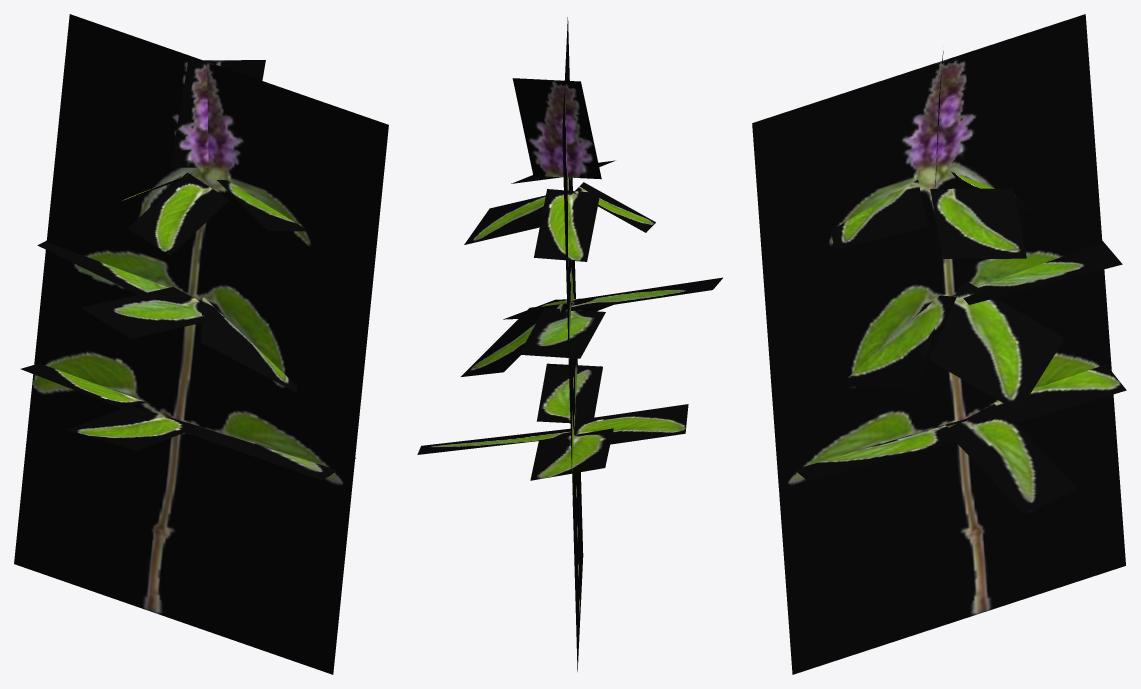
The model's file is 12_Prunella_vulgaris_medium_001.fbx.
3 views of the same model, side by side, from view 1: azimuth 30°, elevation 25°; view 2: azimuth 150°, elevation 25°; view 3: azimuth 270°, elevation 25° (orthographic). The views are drawn at different scales.
Visible parts, largest first — view 1: 12_Prunella_vulgaris_medium.001; view 2: 12_Prunella_vulgaris_medium.001; view 3: 12_Prunella_vulgaris_medium.001.
Part boxes in pixels (bbox=[...]): 12_Prunella_vulgaris_medium.001: bbox=[14, 14, 388, 674]; 12_Prunella_vulgaris_medium.001: bbox=[417, 17, 722, 671]; 12_Prunella_vulgaris_medium.001: bbox=[752, 14, 1126, 674].
Size of the model in its own units: 0.0955 by 0.2092 by 0.1183.
